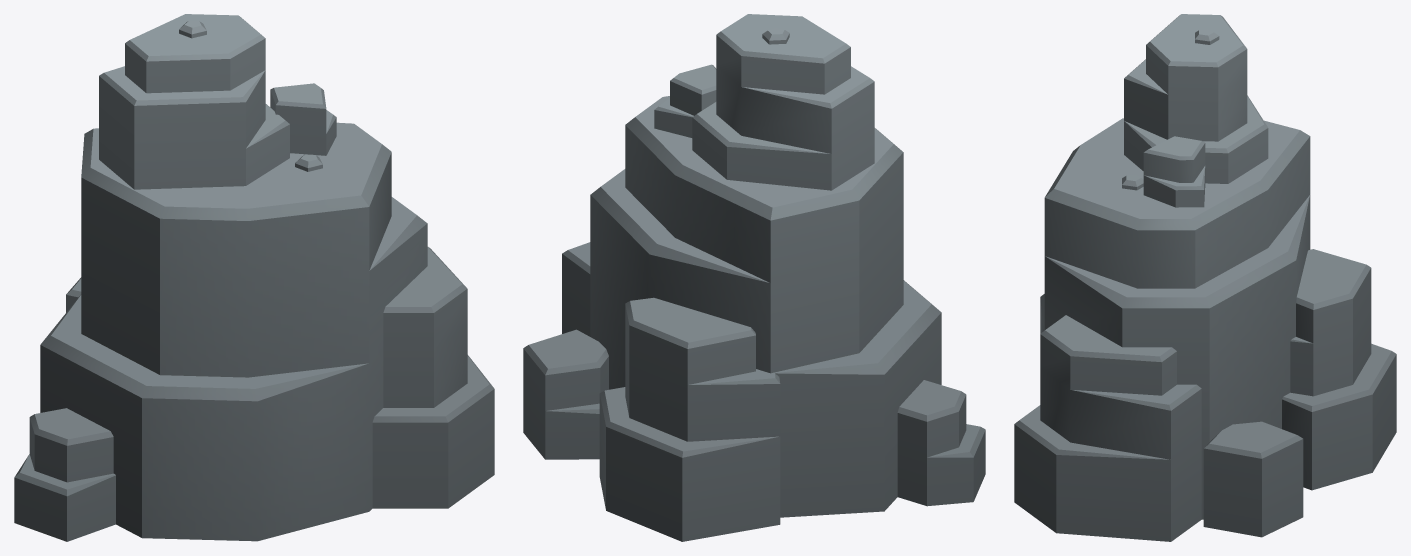
The model's file is Rock_1_K_Color1.fbx.
3 renders of one model, left to right at view 1: azimuth 30°, elevation 25°; view 2: azimuth 150°, elevation 25°; view 3: azimuth 270°, elevation 25°, orthographic. The views are drawn at different scales.
Parts seen in each view (by area): view 1: Rock_1_K_Color1; view 2: Rock_1_K_Color1; view 3: Rock_1_K_Color1.
Part boxes in pixels (bbox=[...]): Rock_1_K_Color1: bbox=[14, 14, 494, 541]; Rock_1_K_Color1: bbox=[523, 14, 985, 541]; Rock_1_K_Color1: bbox=[1014, 14, 1396, 541].
Bounding box in the file's own units: 3.69 × 3.65 × 3.13.
